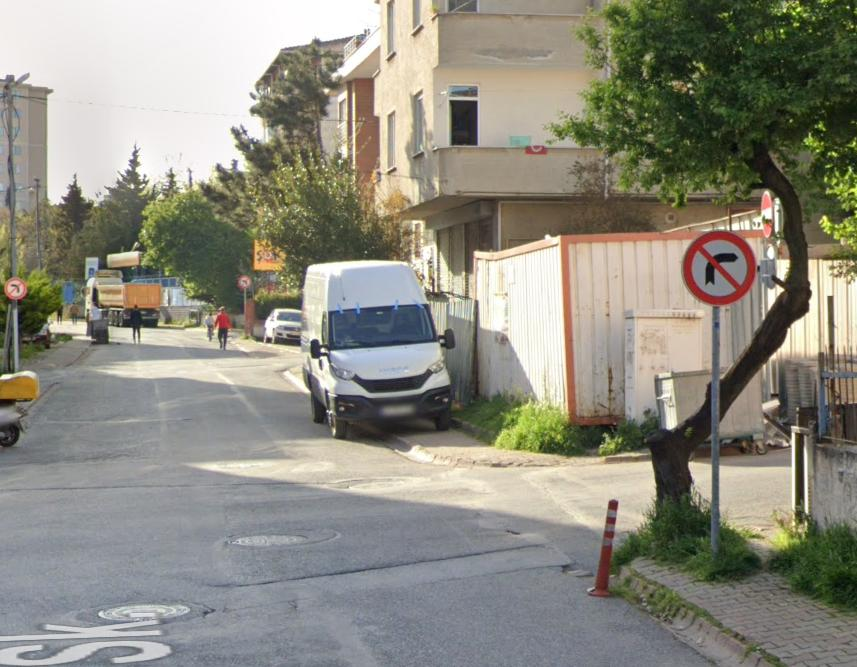rightturnsareforbidden: (686, 232, 751, 299)
